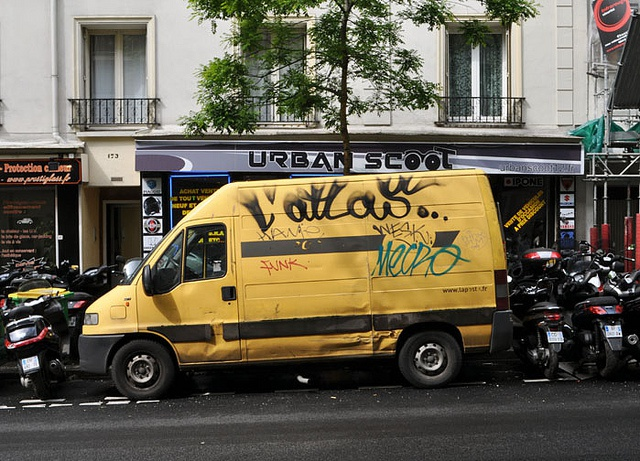non-vehicle: (548, 252, 639, 379), (0, 290, 75, 401), (506, 272, 565, 380), (602, 261, 640, 362)
